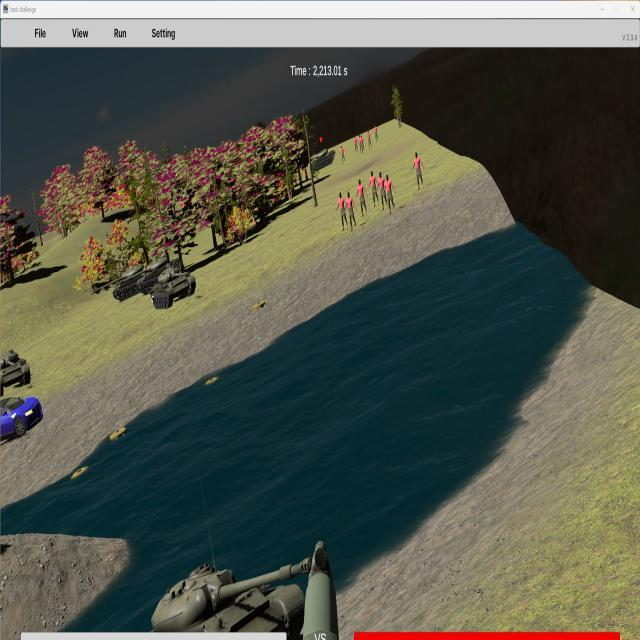Human: (381, 173, 398, 215), (343, 191, 358, 231), (335, 191, 348, 232), (375, 171, 389, 209), (412, 151, 424, 191), (367, 170, 379, 208), (356, 178, 367, 218)
Tank: (92, 256, 185, 302), (151, 266, 196, 309), (0, 348, 32, 399)
car: (0, 395, 43, 452)
